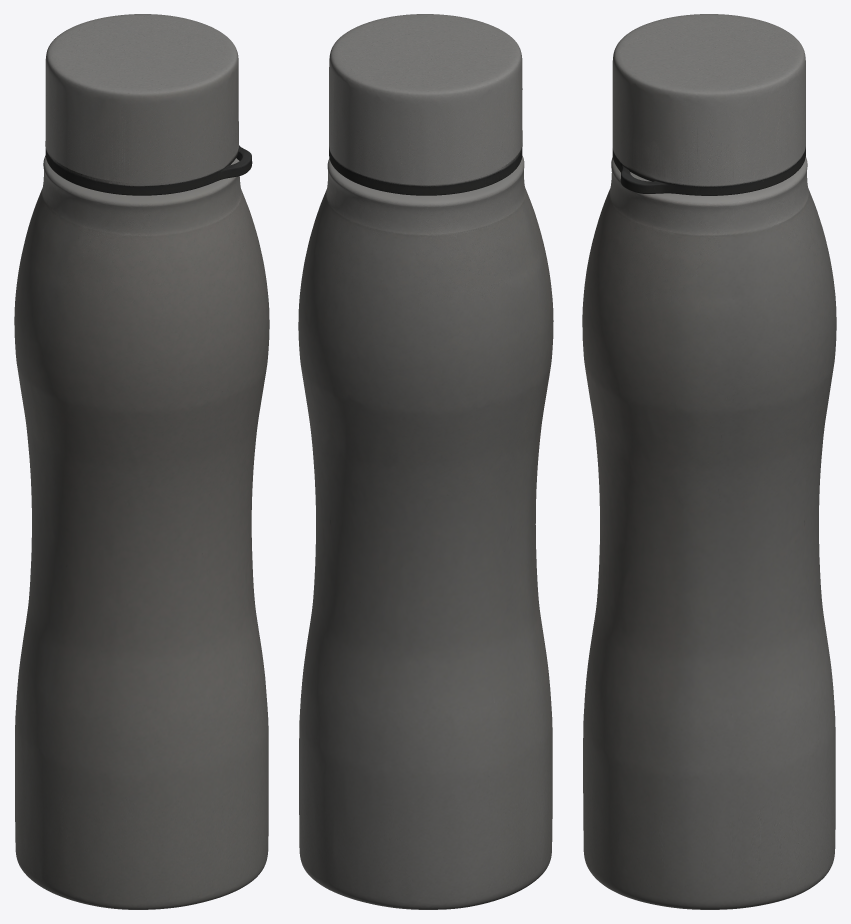
File: cold-brew-flask.glb
The picture shows the model from 3 angles, left to right: view 1: azimuth 30°, elevation 25°; view 2: azimuth 150°, elevation 25°; view 3: azimuth 270°, elevation 25°; orthographic projection.
Parts seen in each view (by area): view 1: AR_Table_Placement; view 2: AR_Table_Placement; view 3: AR_Table_Placement.
Boxes of the visible parts, bbox=[...] form: AR_Table_Placement: bbox=[14, 14, 269, 909]; AR_Table_Placement: bbox=[298, 14, 553, 909]; AR_Table_Placement: bbox=[582, 14, 836, 909].
Bounding box in the file's own units: 0.0684 × 0.24 × 0.0684.
1 material, 1 textured.
